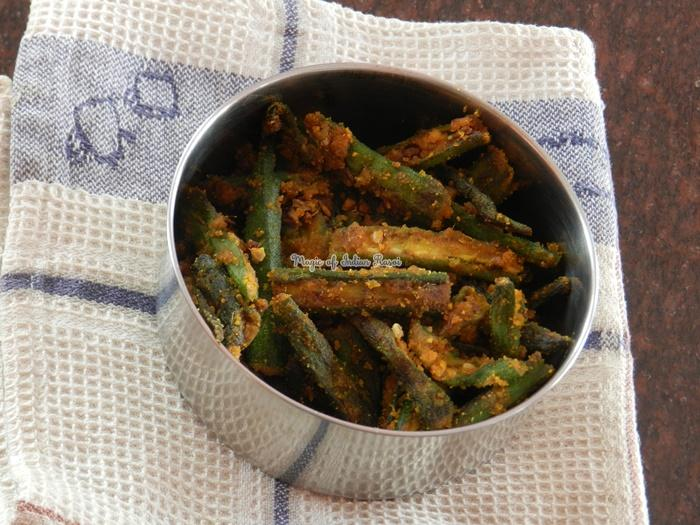bhindi: (185, 85, 568, 417)
